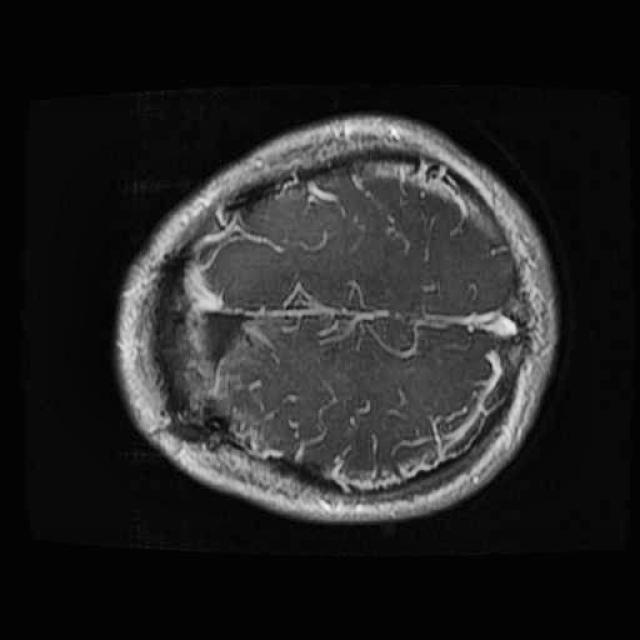Non-Tumor: (131, 216, 274, 470)
